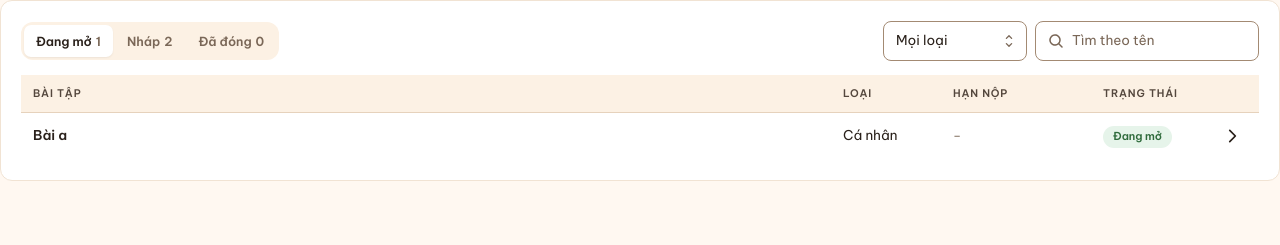
Test: không còn trạng thái Đã duyệt › bài đã duyệt từ trước hiện là Nháp và nằm ở tab Nháp; loại gộp hình thức và chế độ
Check: the link "Bài a" is shown, box [33,126,67,144]
Click the tab "Nháp2".
click(150, 41)  # box [115,25,185,57]
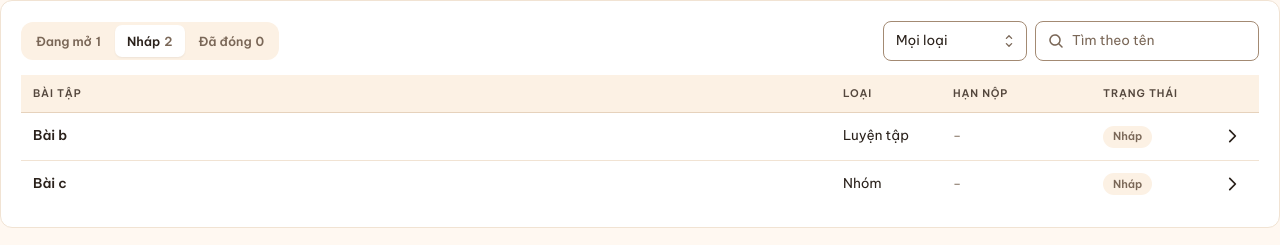
Check: the row with test id "assignment-row-b" shows "Luyện tập", box [843,126,909,144]
Check: the row with test id "assignment-row-c" shows "Nhóm", box [843,174,882,192]
